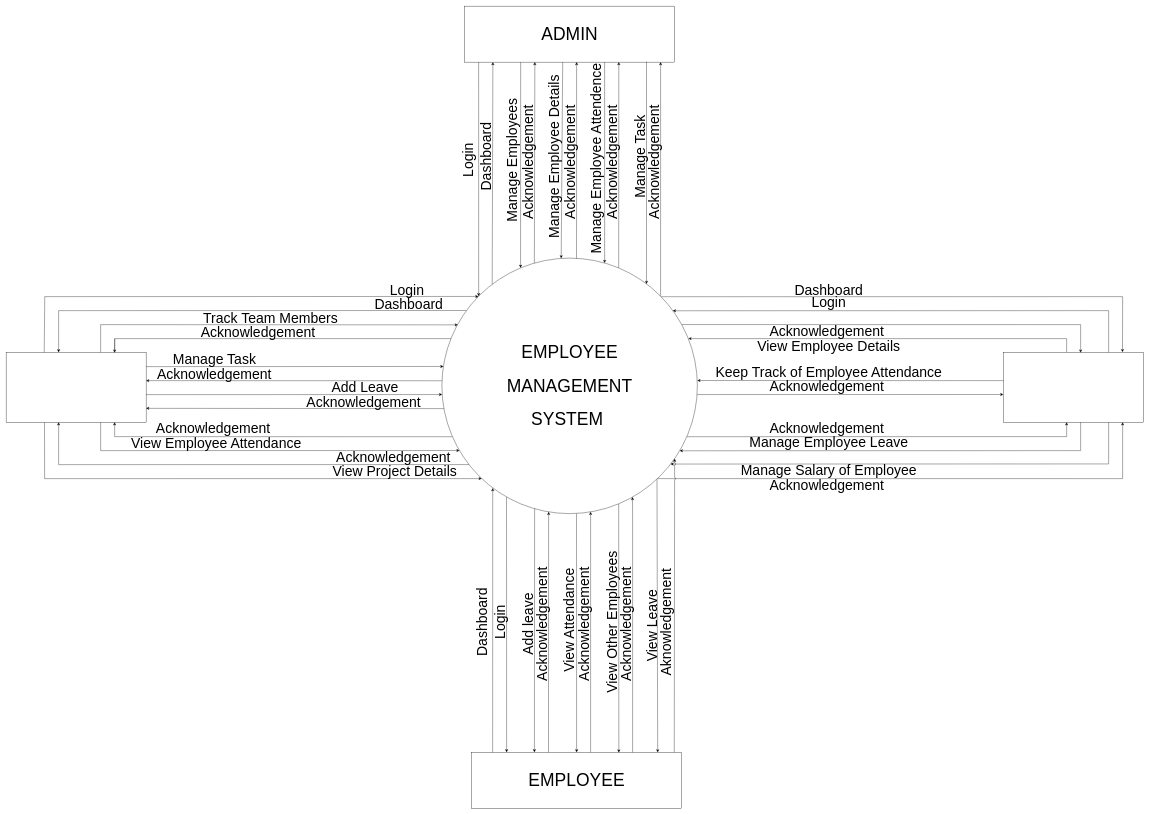
Image size: 1150x814. Some labels were removed from this diagram. The shapes that lost their labels are listed below. From the top down, each one's centre as x and y in pixels, then its label:
the point at 76,387: PROJECT MANAGER
the point at 1073,387: HUMAN RESOURCES
